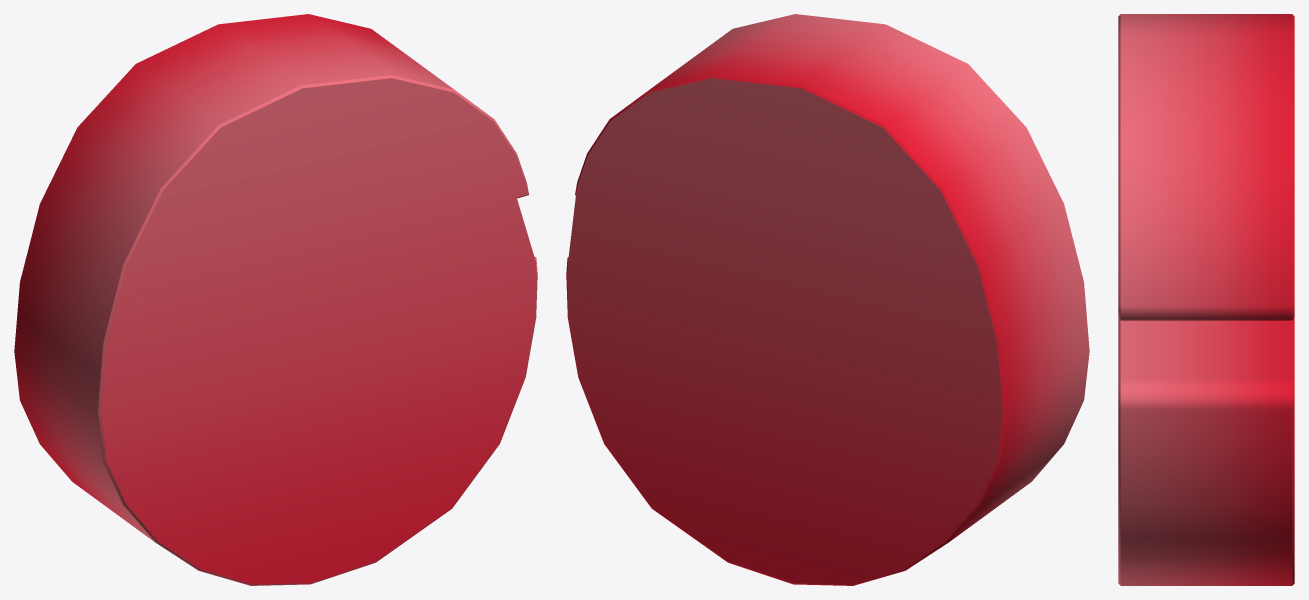
Rendered from alphaGR.obj.
3 views of the same model, side by side, from view 1: azimuth 30°, elevation 25°; view 2: azimuth 150°, elevation 25°; view 3: azimuth 270°, elevation 25° (orthographic). The views are drawn at different scales.
Visible parts, largest first — view 1: polySurface9; view 2: polySurface9; view 3: polySurface9.
Boxes of the visible parts, left/top/right/bottom form: polySurface9: left=14, top=14, right=537, bottom=585; polySurface9: left=566, top=14, right=1089, bottom=585; polySurface9: left=1118, top=14, right=1294, bottom=585.
Bounding box in the file's own units: 1.95 × 2.13 × 0.6578.
